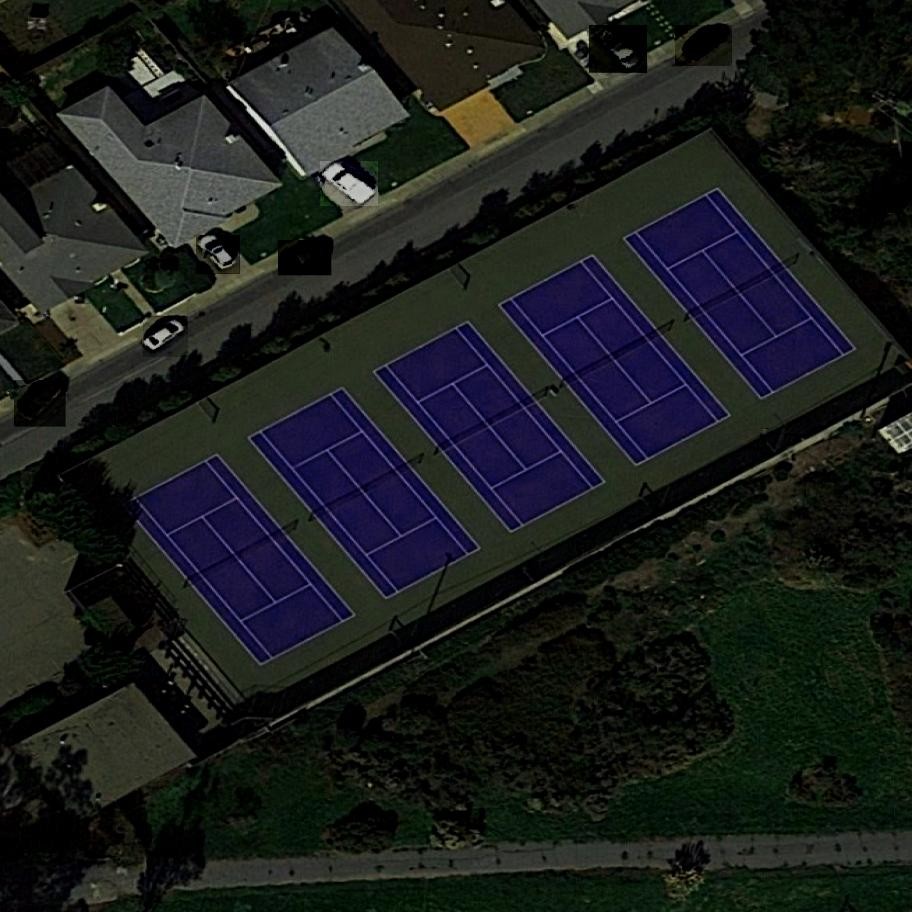small-vehicle: (589, 22, 647, 78), (320, 158, 378, 210), (15, 377, 66, 430), (676, 23, 732, 71), (278, 240, 332, 281), (143, 317, 188, 360), (197, 233, 240, 277)
